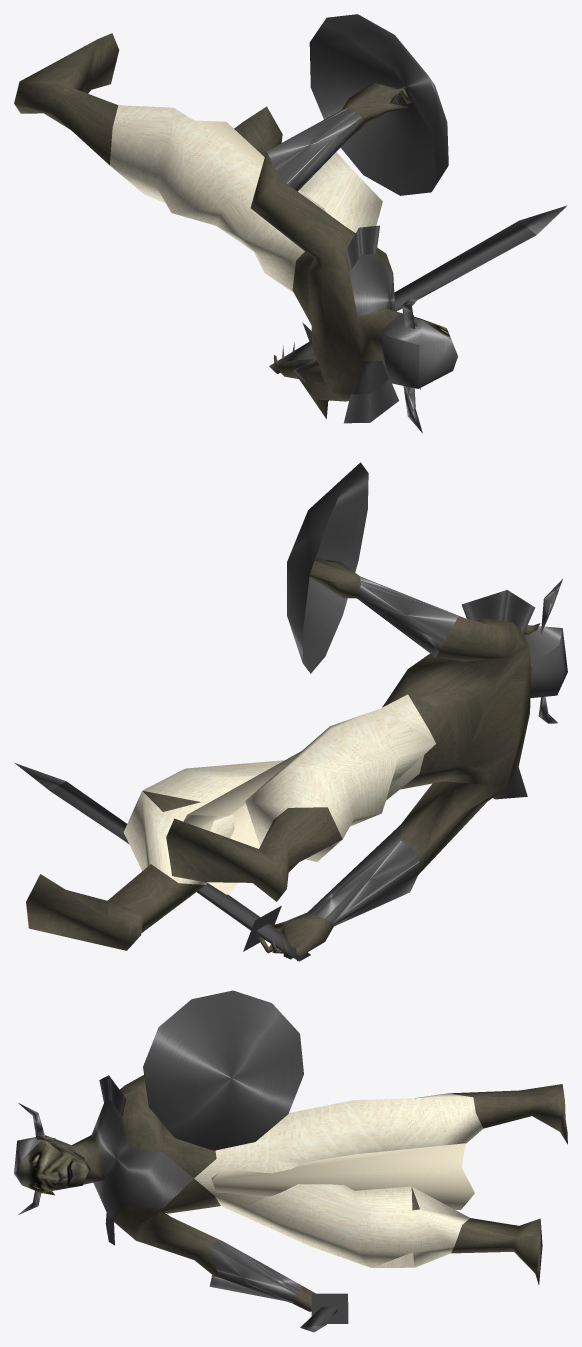
Rendered from lanka_000106.obj.
3 views of the same model, one above another, from view 1: azimuth 30°, elevation 25°; view 2: azimuth 150°, elevation 25°; view 3: azimuth 270°, elevation 25° (orthographic). The views are drawn at different scales.
Visible parts, largest first — view 1: A4_Circle; view 2: A4_Circle; view 3: A4_Circle.
Boxes of the visible parts, x1,y1,x2,y2 form: A4_Circle: (14,14,567,433); A4_Circle: (15,462,567,961); A4_Circle: (14,990,567,1332).
Bounding box in the file's own units: 1.86 × 1.75 × 2.7.
